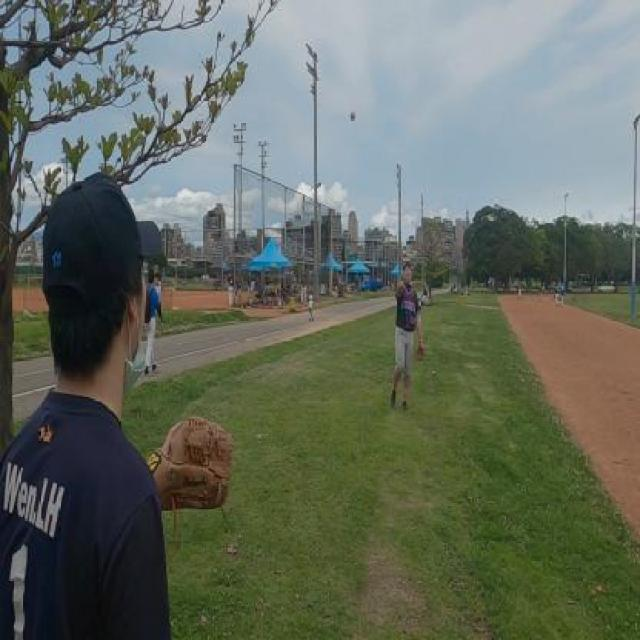baseball: (351, 110, 355, 121)
